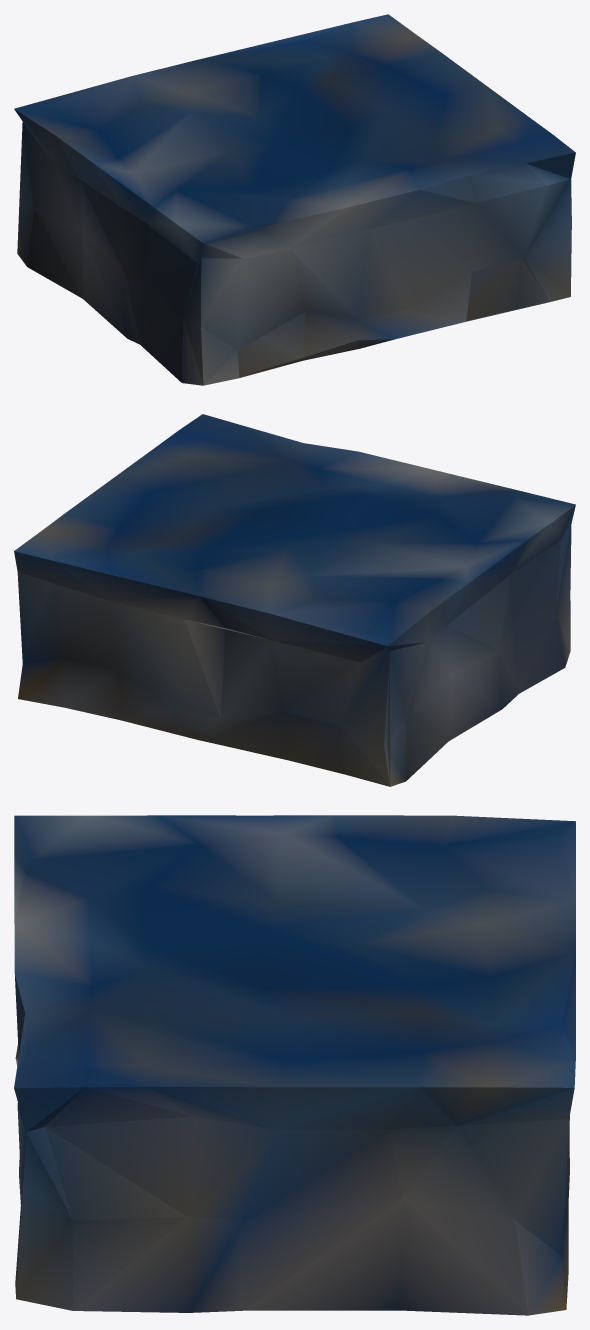
The model's file is warehouse.glb.
3 renders of one model, top to bottom at view 1: azimuth 30°, elevation 25°; view 2: azimuth 150°, elevation 25°; view 3: azimuth 270°, elevation 25°, orthographic. The views are drawn at different scales.
Visible parts, largest first — view 1: warehouse-far; view 2: warehouse-far; view 3: warehouse-far.
Part boxes in pixels (bbox=[...]): warehouse-far: bbox=[14, 14, 575, 385]; warehouse-far: bbox=[14, 414, 575, 786]; warehouse-far: bbox=[14, 815, 575, 1315].
Bounding box in the file's own units: 0.9384 × 0.3521 × 0.7977.
